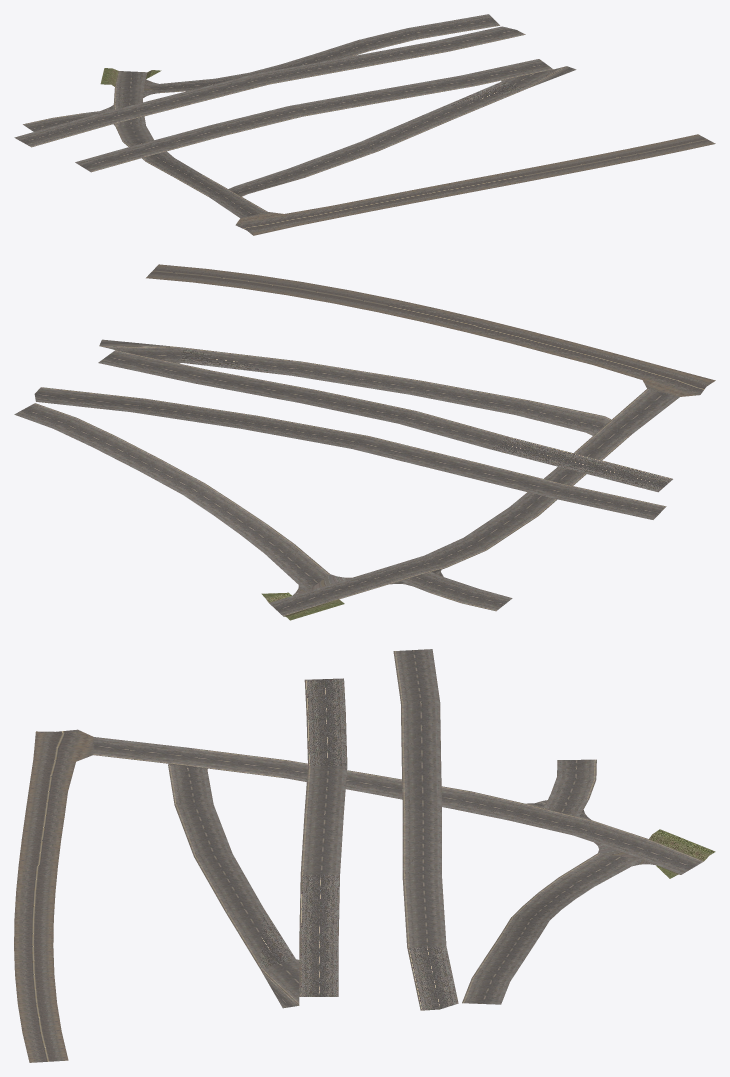
File: cs_lodroads23.obj
3 views of the same model, one above another, from view 1: azimuth 30°, elevation 25°; view 2: azimuth 150°, elevation 25°; view 3: azimuth 270°, elevation 25° (orthographic). The views are drawn at different scales.
Parts seen in each view (by area): view 1: cs_lodroads23; view 2: cs_lodroads23; view 3: cs_lodroads23.
Part boxes in pixels (bbox=[...]): cs_lodroads23: bbox=[14, 14, 715, 235]; cs_lodroads23: bbox=[14, 264, 715, 620]; cs_lodroads23: bbox=[14, 649, 715, 1062].
Bounding box in the file's own units: 265 × 26.4 × 214.
Materials: 3 (3 with a texture image).
